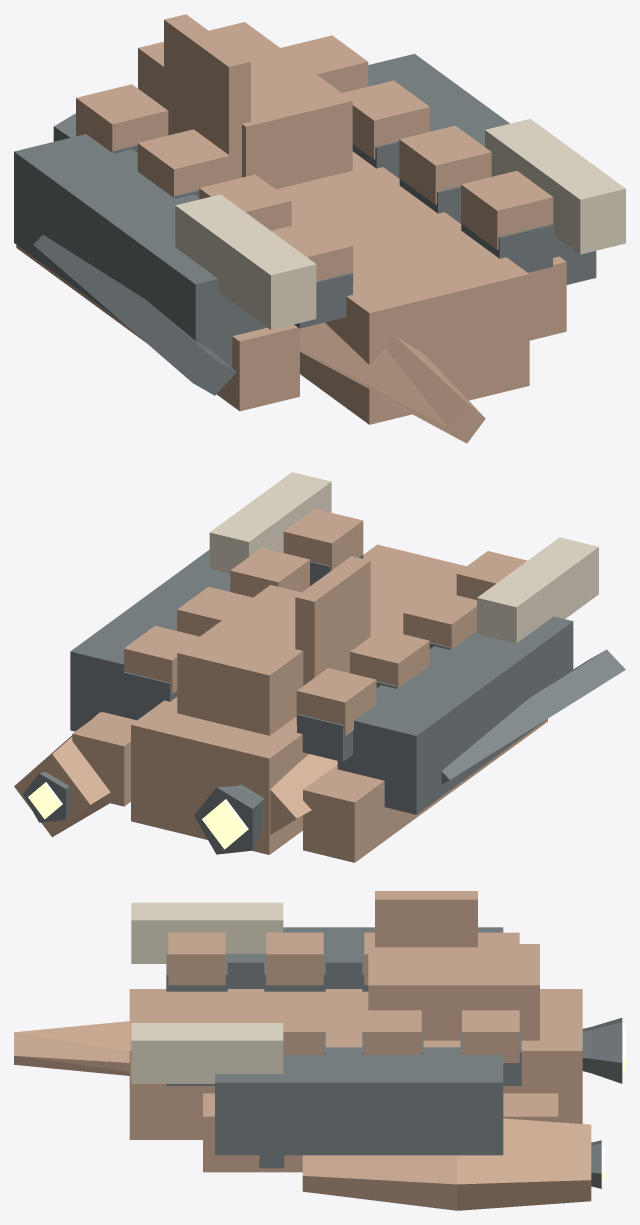
3 views of the same model, one above another, from view 1: azimuth 30°, elevation 25°; view 2: azimuth 150°, elevation 25°; view 3: azimuth 270°, elevation 25° (orthographic). The views are drawn at different scales.
Size of the model in its own units: 13.59 by 8.28 by 19.99.
